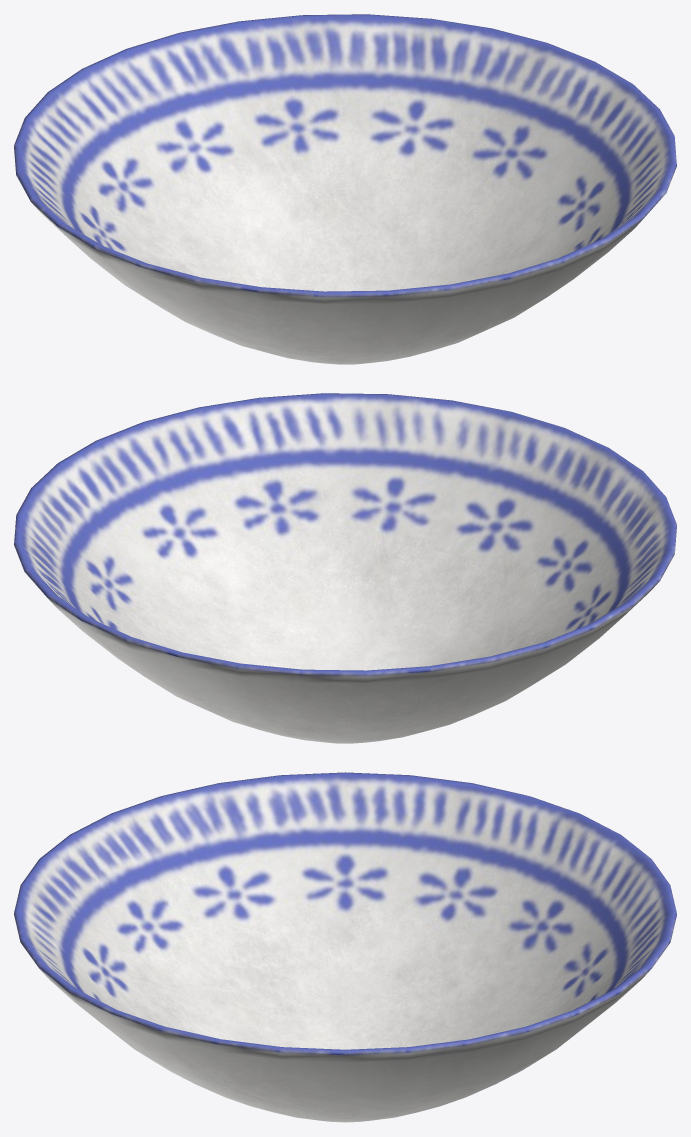
Rendered from porselen-mavi-buyuk-kae.glb.
3 renders of one model, top to bottom at view 1: azimuth 30°, elevation 25°; view 2: azimuth 150°, elevation 25°; view 3: azimuth 270°, elevation 25°, orthographic.
Parts seen in each view (by area): view 1: geo_x_bowl; view 2: geo_x_bowl; view 3: geo_x_bowl.
Part boxes in pixels (x1=…): geo_x_bowl: x1=14, y1=14, x2=676, y2=364; geo_x_bowl: x1=14, y1=393, x2=676, y2=743; geo_x_bowl: x1=14, y1=772, x2=676, y2=1122.
Bounding box in the file's own units: 0.3719 × 0.1129 × 0.3719.
1 material, 1 textured.
